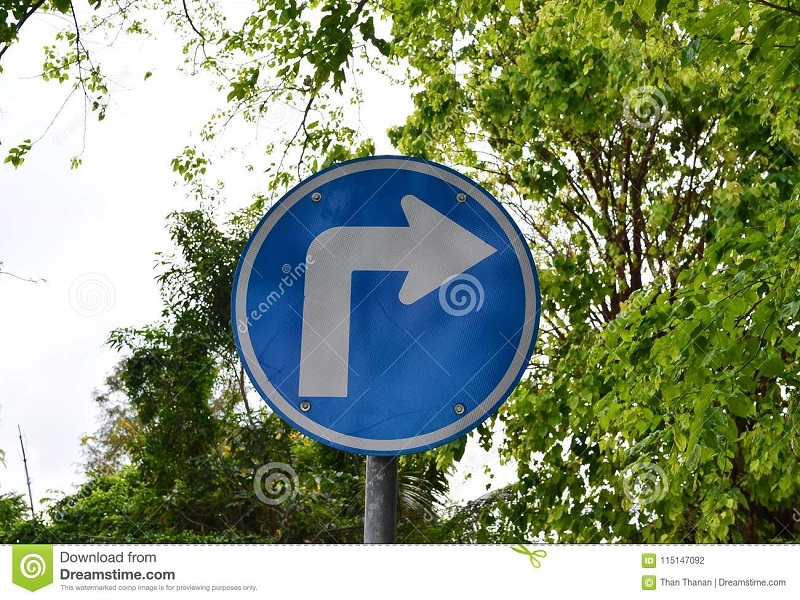sagaDon: (294, 188, 500, 407)
